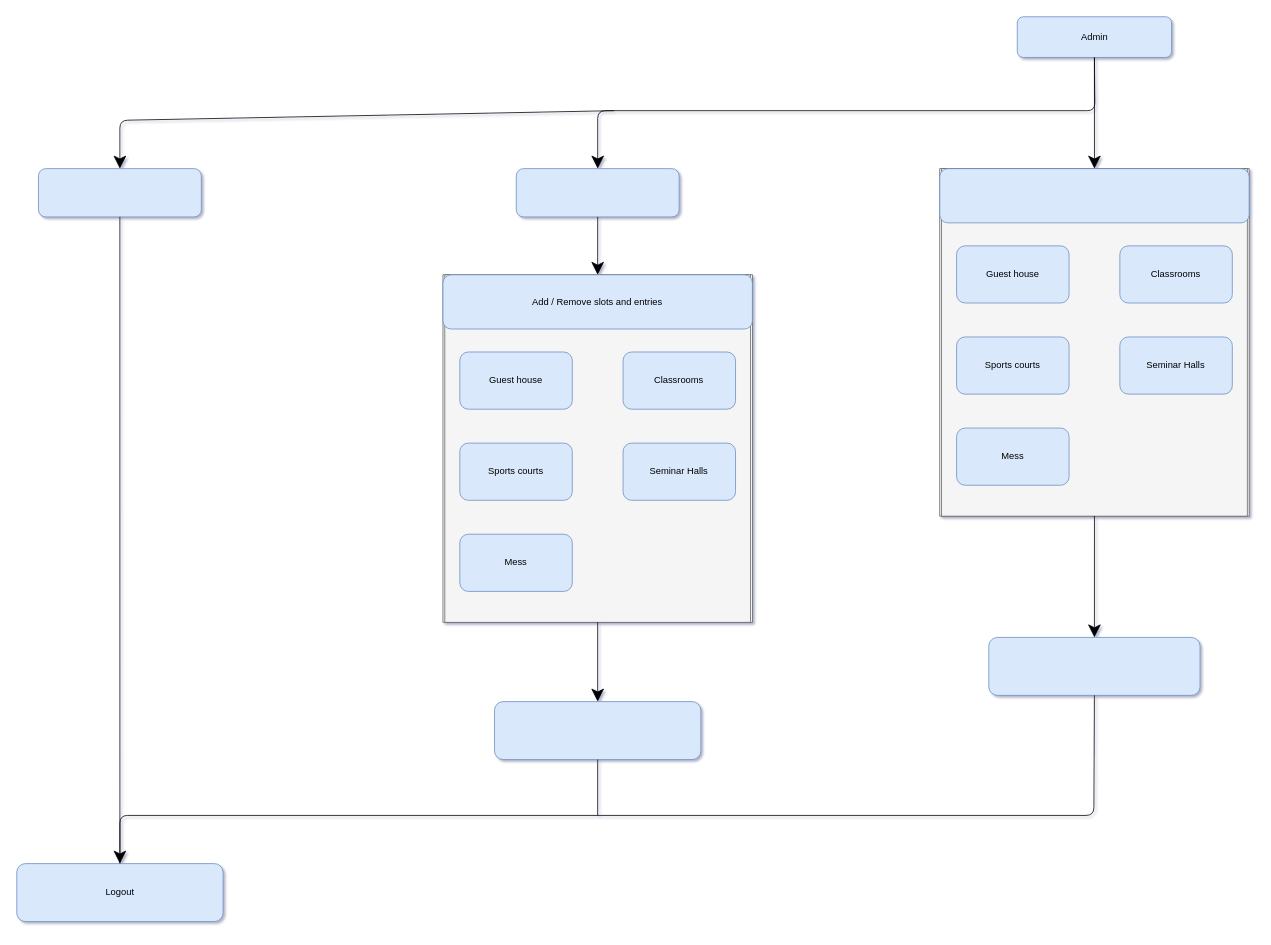
The diagram is 1271 pixels wide and 945 high, and some of its shapes have lost their labels. Here are the shapes that lost their labels. From the top down, the centre of each, then its label:
At (119,192): "View all the slots".
At (597,192): "Modify data".
At (1094,195): "View pending requests".
At (1094,666): "Verify requests and accept/ reject".
At (597,730): "Update and finalise database".
